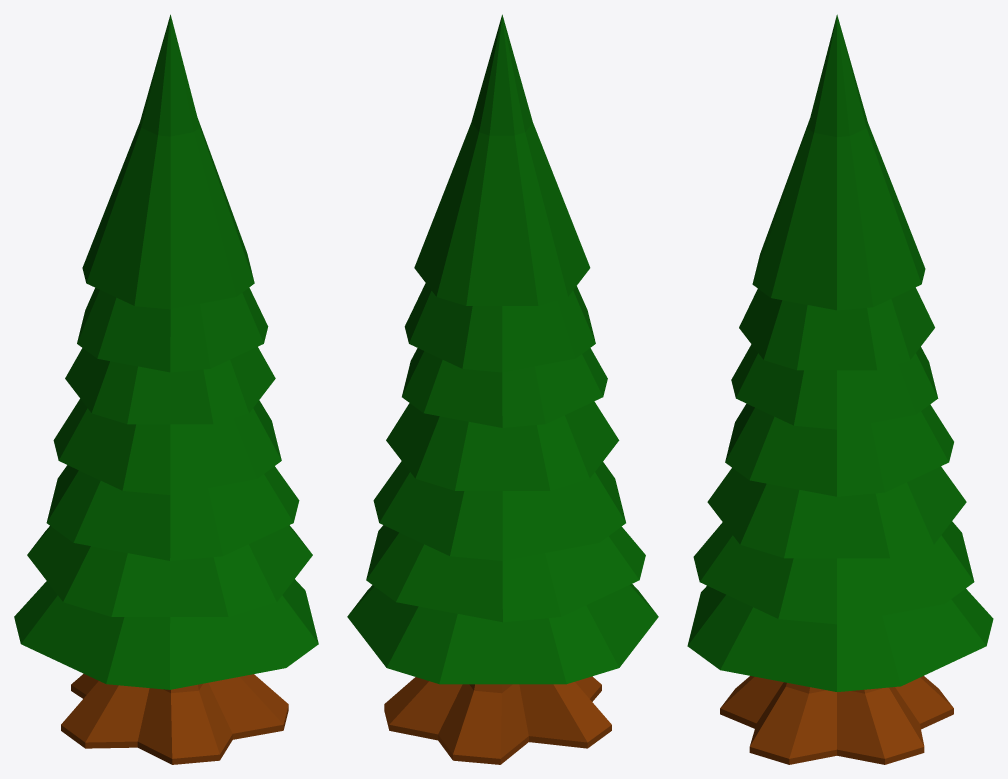
Rendered from Small Tree.fbx.
3 views of the same model, side by side, from view 1: azimuth 30°, elevation 25°; view 2: azimuth 150°, elevation 25°; view 3: azimuth 270°, elevation 25° (orthographic).
Visible parts, largest first — view 1: Small_Tree1; view 2: Small_Tree1; view 3: Small_Tree1.
Part boxes in pixels (x1,y1,x2,y2): Small_Tree1: [14, 14, 318, 764]; Small_Tree1: [347, 14, 658, 764]; Small_Tree1: [687, 14, 993, 764].
Bounding box in the file's own units: 2.57 × 6.42 × 2.53.
